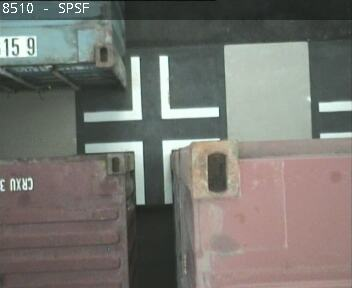groundmarker_1: (83, 55, 218, 125), (84, 136, 218, 205)
